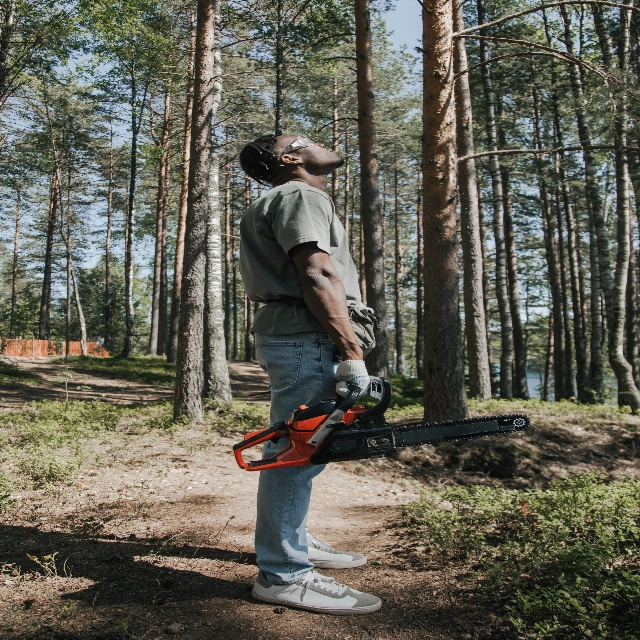Gafas: (279, 133, 315, 167)
Guantes: (335, 358, 371, 400)
